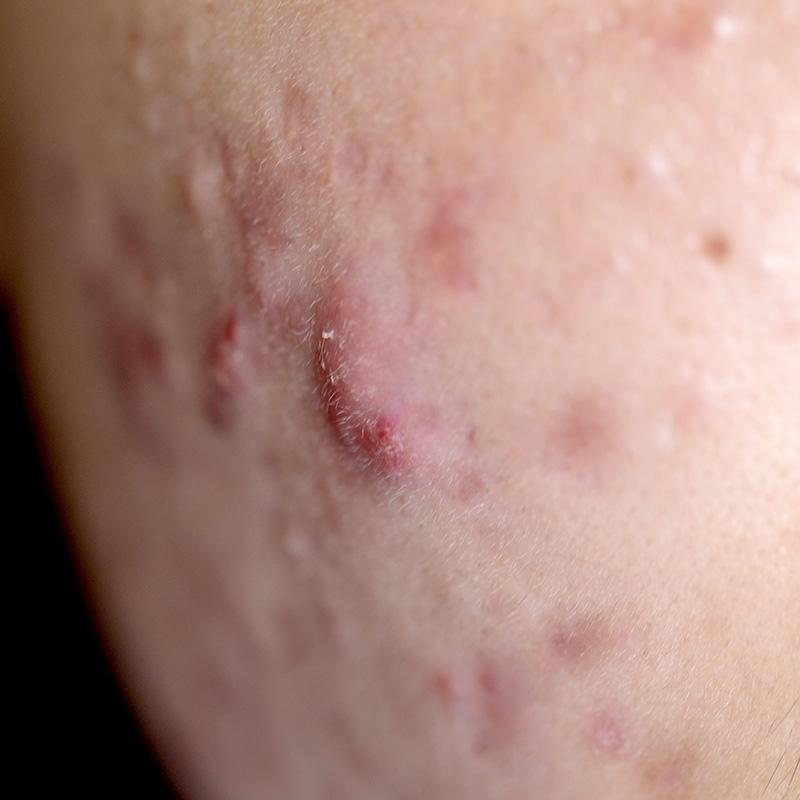sebo-crystan-conglo: (318, 282, 394, 484), (192, 299, 272, 450)
